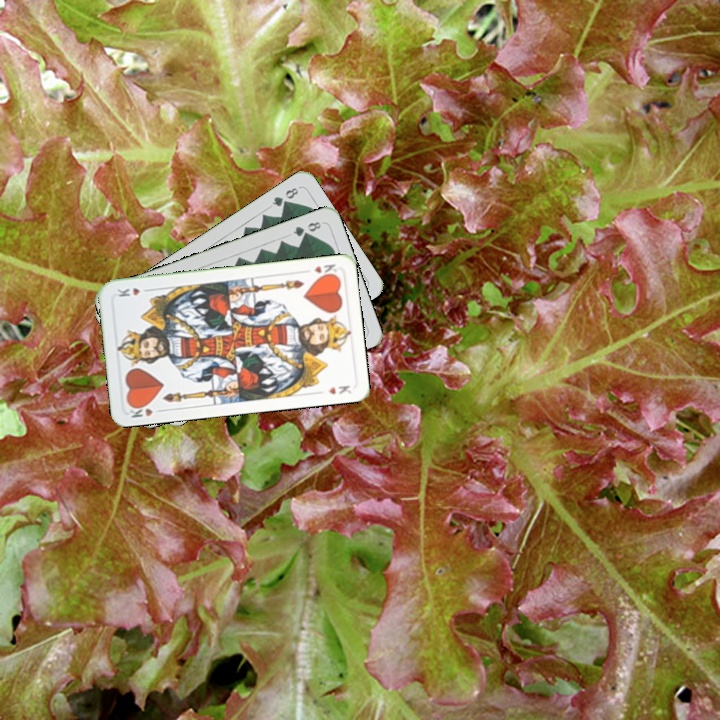G8: (268, 183, 302, 209), (289, 217, 324, 239)
HK: (125, 400, 166, 420), (310, 260, 341, 280)
